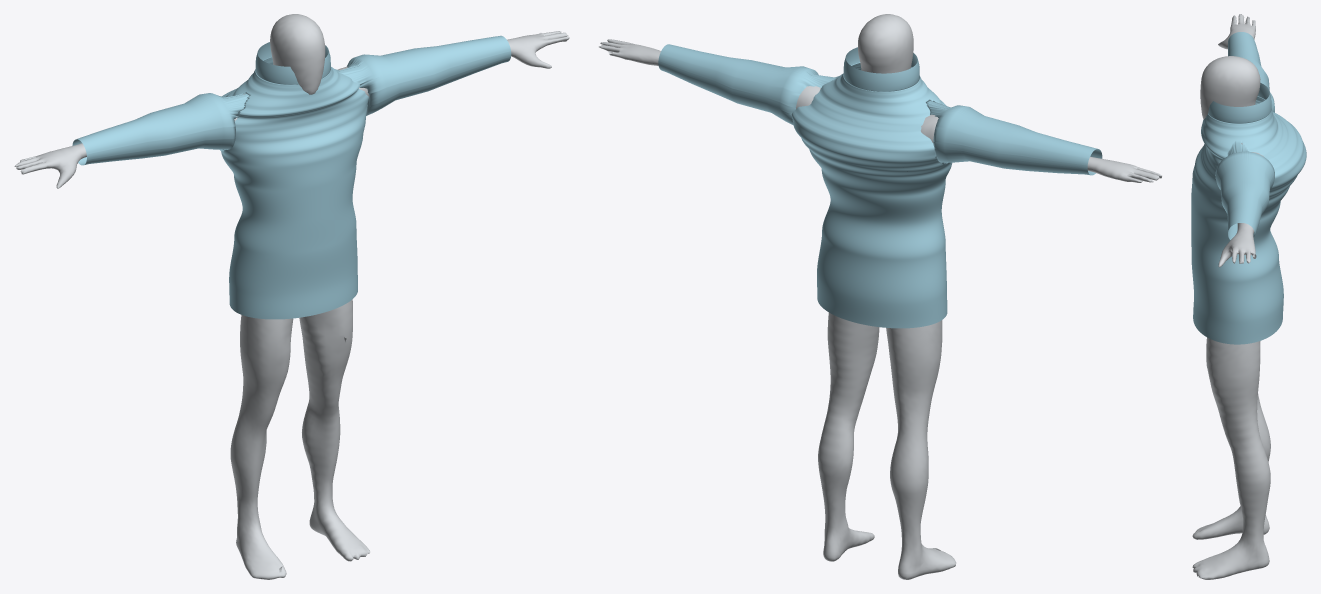
Rendered from fit.glb.
3 views of the same model, side by side, from view 1: azimuth 30°, elevation 25°; view 2: azimuth 150°, elevation 25°; view 3: azimuth 270°, elevation 25° (orthographic). The views are drawn at different scales.
Parts seen in each view (by area): view 1: ATEL-23 shirt v3.1 corrective, AtelierX_mannequin_180cm; view 2: ATEL-23 shirt v3.1 corrective, AtelierX_mannequin_180cm; view 3: ATEL-23 shirt v3.1 corrective, AtelierX_mannequin_180cm.
Part boxes in pixels (x1,y1,x2,y2): ATEL-23 shirt v3.1 corrective: (72,35,511,319); AtelierX_mannequin_180cm: (14,14,569,579); ATEL-23 shirt v3.1 corrective: (658,44,1102,328); AtelierX_mannequin_180cm: (599,14,1161,579); ATEL-23 shirt v3.1 corrective: (1191,32,1306,344); AtelierX_mannequin_180cm: (1192,14,1270,579).
Size of the model in its own units: 1.93 by 1.8 by 0.379.
